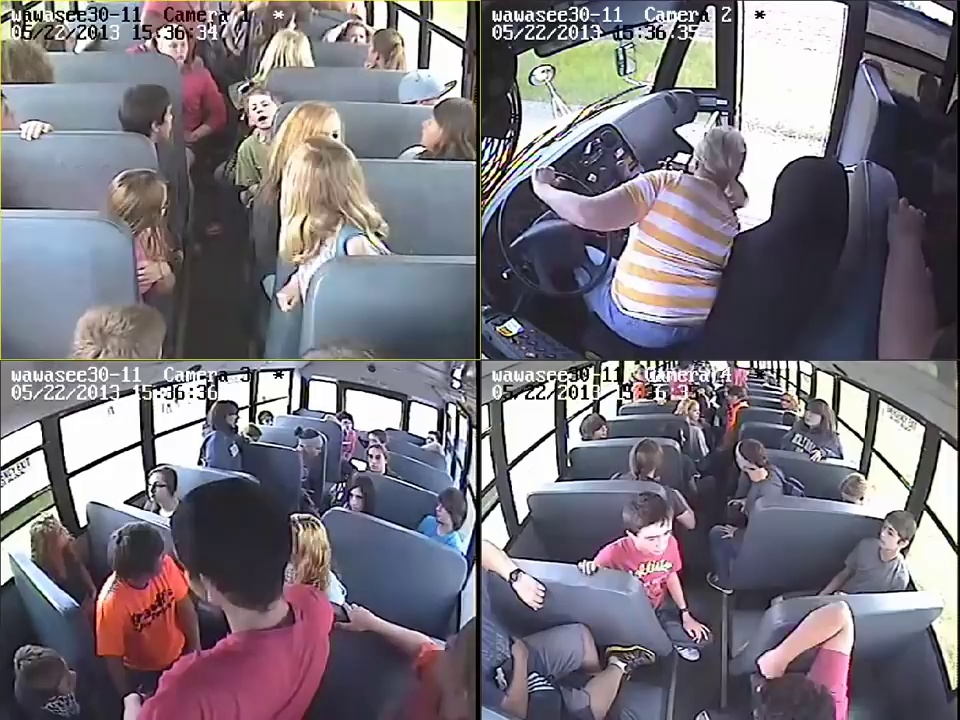face: (637, 521, 674, 556), (248, 95, 278, 128), (416, 114, 448, 143), (433, 500, 462, 527), (877, 521, 903, 551), (161, 43, 189, 66), (349, 488, 368, 514), (344, 25, 369, 44), (802, 406, 823, 428), (146, 481, 168, 501), (367, 451, 386, 470), (308, 439, 322, 459), (593, 422, 608, 439), (780, 395, 796, 410), (687, 404, 701, 420), (260, 413, 274, 427), (425, 433, 438, 447), (368, 433, 380, 447)
